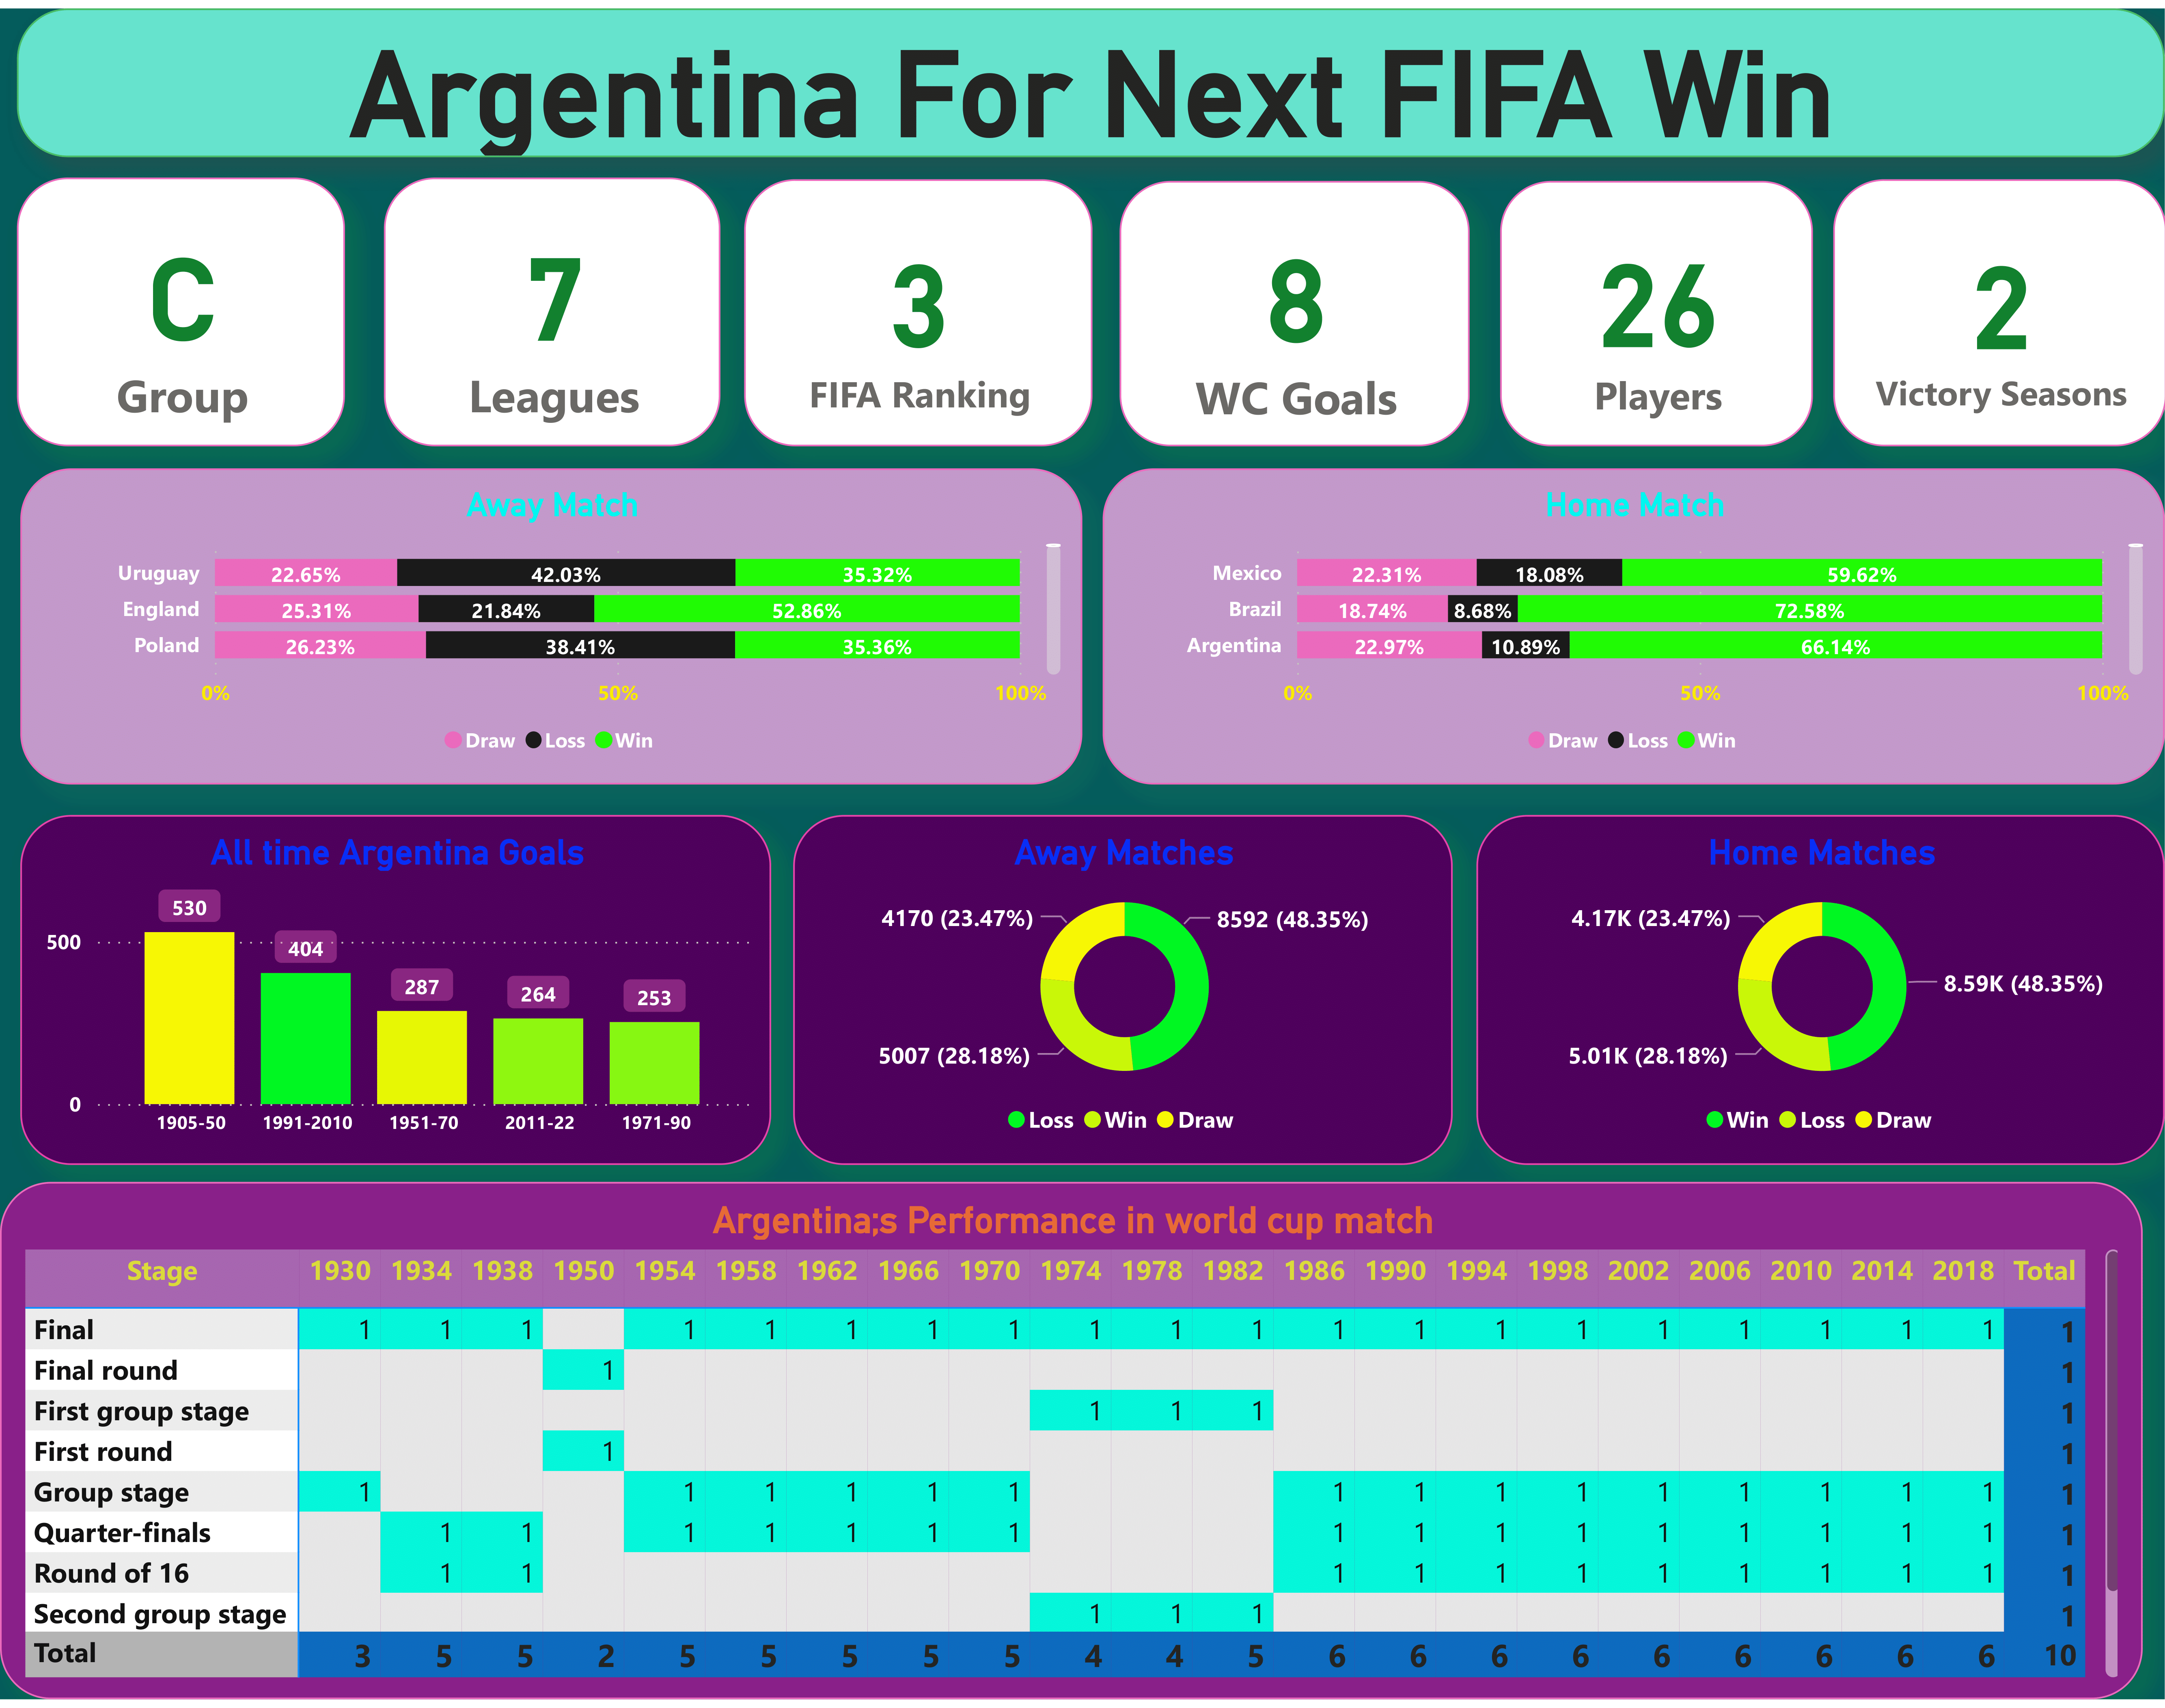

The page's visual inventory and layout, read from the dashboard file:
{"tool":"powerbi","page":{"name":"Fifa_World_Cup","canvas":[1280,1000],"ordinal":0},"visuals":[{"type":"textbox","title":"Argentina For Next FIFA Win","box":[10.5,0,1269.8,88.4],"z":0},{"type":"card","fields":{"Values":["DAX.Group"]},"box":[10.5,100,194.2,159.3],"z":1},{"type":"card","fields":{"Values":["DAX.Leagues"]},"box":[226.7,100,198.8,159.3],"z":2},{"type":"card","fields":{"Values":["DAX.FIFA Ranking"]},"box":[439.5,101.2,205.8,158.1],"z":3},{"type":"card","fields":{"Values":["DAX.WC Goals"]},"box":[661.6,102.3,207,157],"z":4},{"type":"card","fields":{"Values":["DAX.Players"]},"box":[887.2,102.3,184.9,157],"z":5},{"type":"card","fields":{"Values":["DAX.Victory Seasons"]},"box":[1083.7,101.2,196.5,158.1],"z":6},{"type":"hundredPercentStackedBarChart","title":"Away Match","fields":{"Category":["international_matches.Away Team","international_matches.Away Team Index"],"Y":["CountNonNull(international_matches.Away team verdict)"],"Series":["international_matches.Away team verdict"]},"box":[12.4,272,627.5,187],"z":7},{"type":"hundredPercentStackedBarChart","title":"Home Match","fields":{"Category":["international_matches.Home Team","international_matches.Home Team Index"],"Y":["CountNonNull(international_matches.Home team verdict)"],"Series":["international_matches.Home team verdict"]},"box":[652.3,272.1,627.9,187.2],"z":8},{"type":"clusteredColumnChart","title":"All time Argentina Goals","fields":{"Category":["international_matches.Year Group"],"Y":["DAX.All Time Arg Goals"]},"box":[11.6,476.7,444.2,207],"z":9},{"type":"donutChart","title":"Away Matches","fields":{"Category":["international_matches.Away team verdict"],"Y":["CountNonNull(international_matches.Away Team)"]},"box":[468.6,476.7,389.5,207],"z":10},{"type":"donutChart","title":"Home Matches","fields":{"Category":["international_matches.Home team verdict"],"Y":["CountNonNull(international_matches.Home Team)"]},"box":[873.3,476.7,407,207],"z":11},{"type":"pivotTable","title":"Argentina;s Performance in world cup match","fields":{"Rows":["world_cup_matches.Stage"],"Columns":["world_cup_matches.Year"],"Values":["Count(world_cup_matches.Stage)"]},"box":[0,694,1267.4,306],"z":12}]}

Visuals, with their boxes in screenshot pixels (x1, y1, x2, y2), scaled from the page's 1280x1000 canvas onto the 2165x1708 screenshot:
"Argentina For Next FIFA Win" textbox: <bbox>18, 0, 2165, 151</bbox>
card - DAX.Group: <bbox>18, 171, 346, 443</bbox>
card - DAX.Leagues: <bbox>384, 171, 720, 443</bbox>
card - DAX.FIFA Ranking: <bbox>743, 173, 1091, 443</bbox>
card - DAX.WC Goals: <bbox>1119, 175, 1469, 443</bbox>
card - DAX.Players: <bbox>1501, 175, 1814, 443</bbox>
card - DAX.Victory Seasons: <bbox>1833, 173, 2165, 443</bbox>
"Away Match" hundredPercentStackedBarChart: <bbox>21, 465, 1082, 784</bbox>
"Home Match" hundredPercentStackedBarChart: <bbox>1103, 465, 2165, 784</bbox>
"All time Argentina Goals" clusteredColumnChart: <bbox>19, 814, 771, 1168</bbox>
"Away Matches" donutChart: <bbox>793, 814, 1451, 1168</bbox>
"Home Matches" donutChart: <bbox>1477, 814, 2165, 1168</bbox>
"Argentina;s Performance in world cup match" pivotTable: <bbox>0, 1185, 2143, 1708</bbox>
